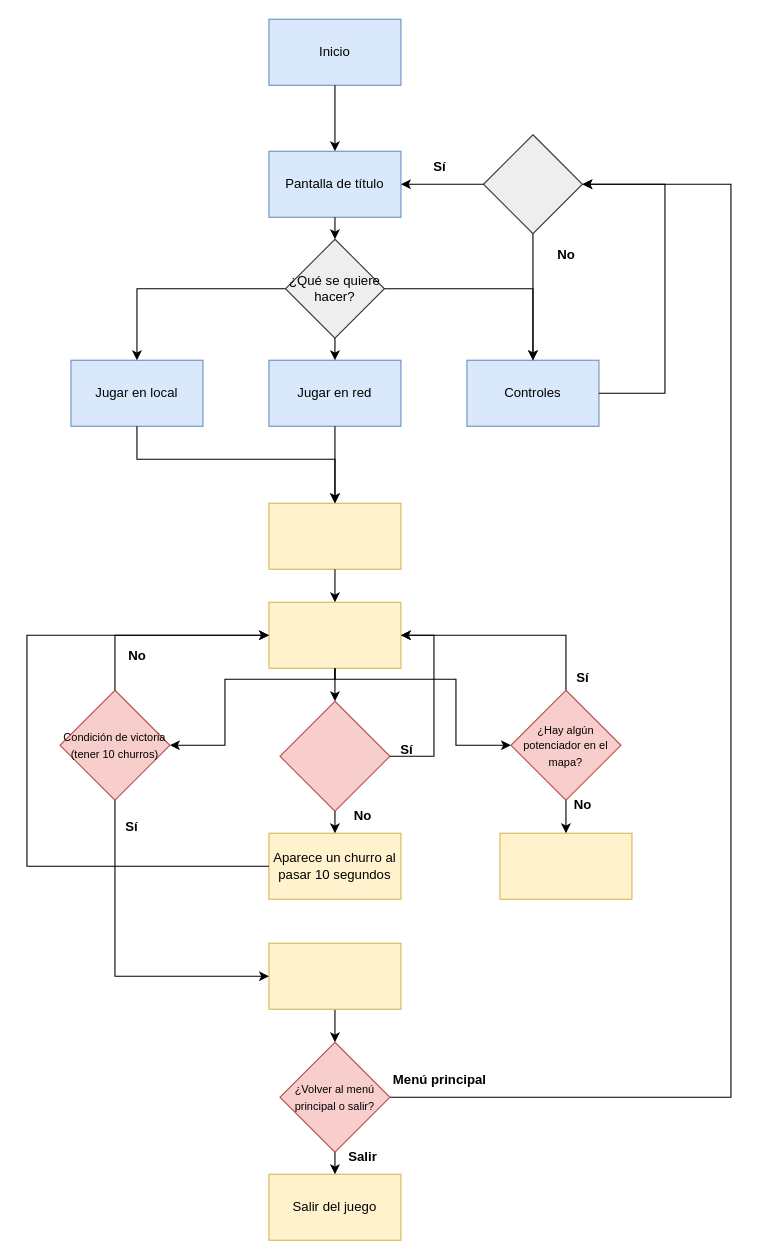
This 759x1260 diagram has some shape labels left out. The centre of each missing label's shape, as x and y in pixels:
Aparece un potenciador aleatorio tras un tiempo: the point at 565,865
Fin del juego (victoria de uno de los jugadores): the point at 334,975
Inicio del juego: the point at 334,535
Jugador/jugadores ejecutan sus acciones, aplicando estados por potenciadores: the point at 334,634
Volver a la pantalla de título: the point at 532,184
¿Hay un churro activo ya?: the point at 334,755
